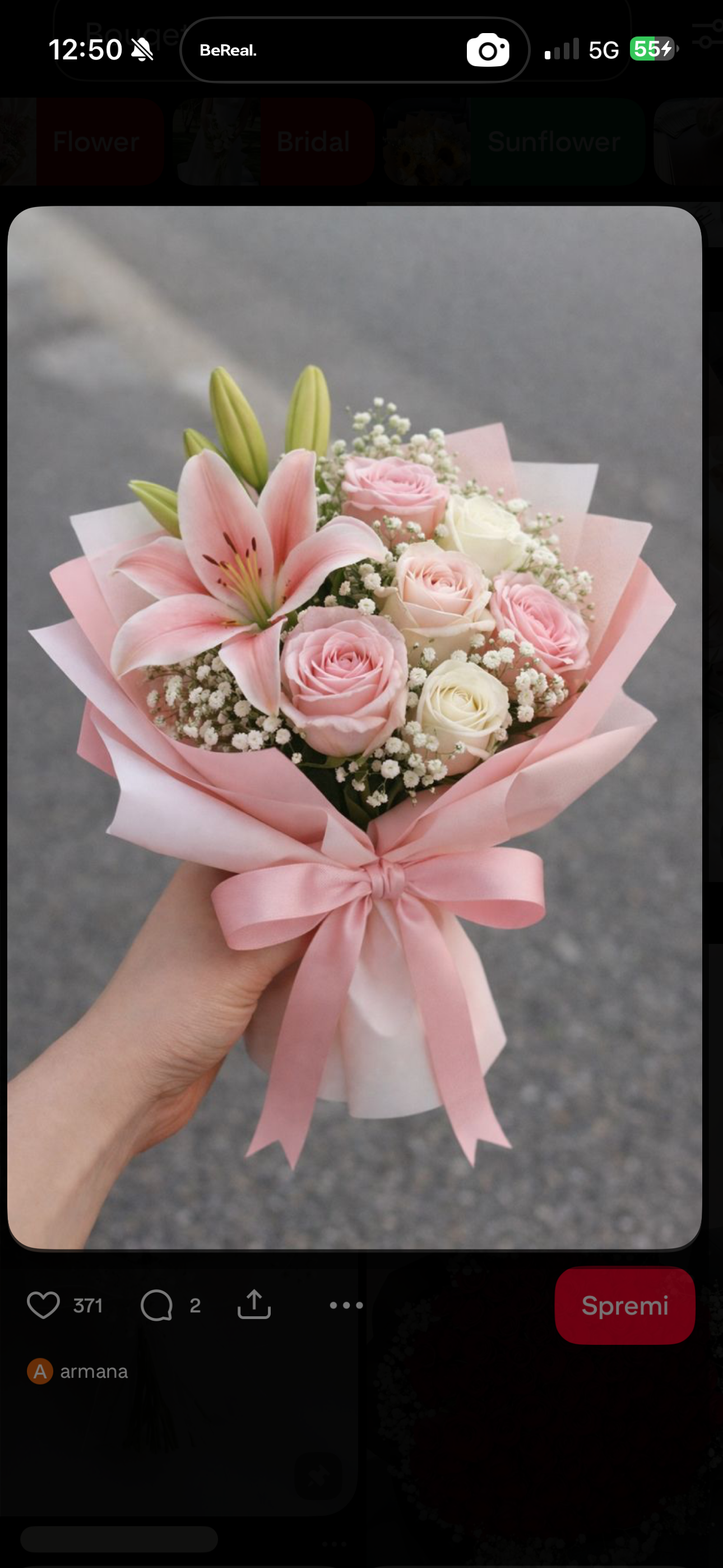rose: (279, 603, 409, 760), (391, 539, 489, 644), (492, 570, 591, 670), (415, 658, 512, 758), (344, 453, 449, 528), (446, 491, 526, 564)
